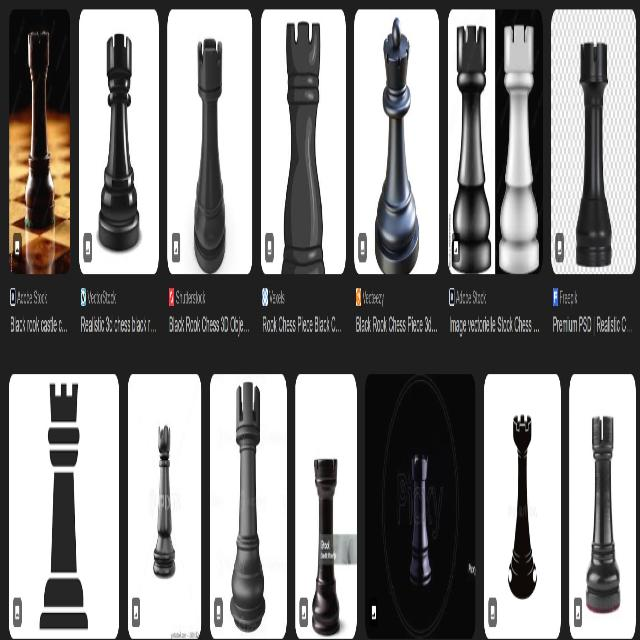black-rook: (39, 383, 88, 629), (374, 16, 419, 274), (281, 20, 326, 275), (452, 23, 491, 273), (98, 31, 139, 250), (230, 380, 265, 634), (576, 42, 612, 266), (194, 38, 226, 273), (586, 415, 620, 616), (25, 31, 54, 228), (508, 412, 537, 600), (312, 458, 339, 636), (153, 424, 176, 578), (409, 456, 431, 588)
white-rook: (499, 24, 539, 274)
